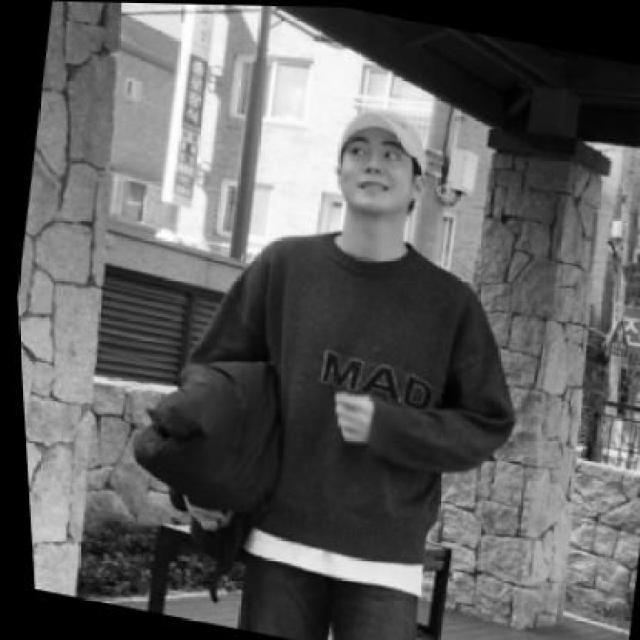hat: (323, 89, 442, 183)
